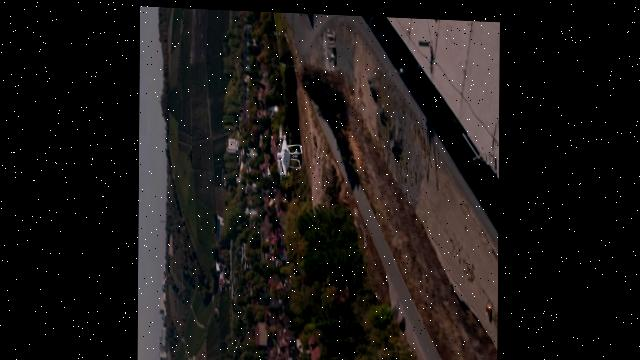drone: (275, 120, 304, 182)
